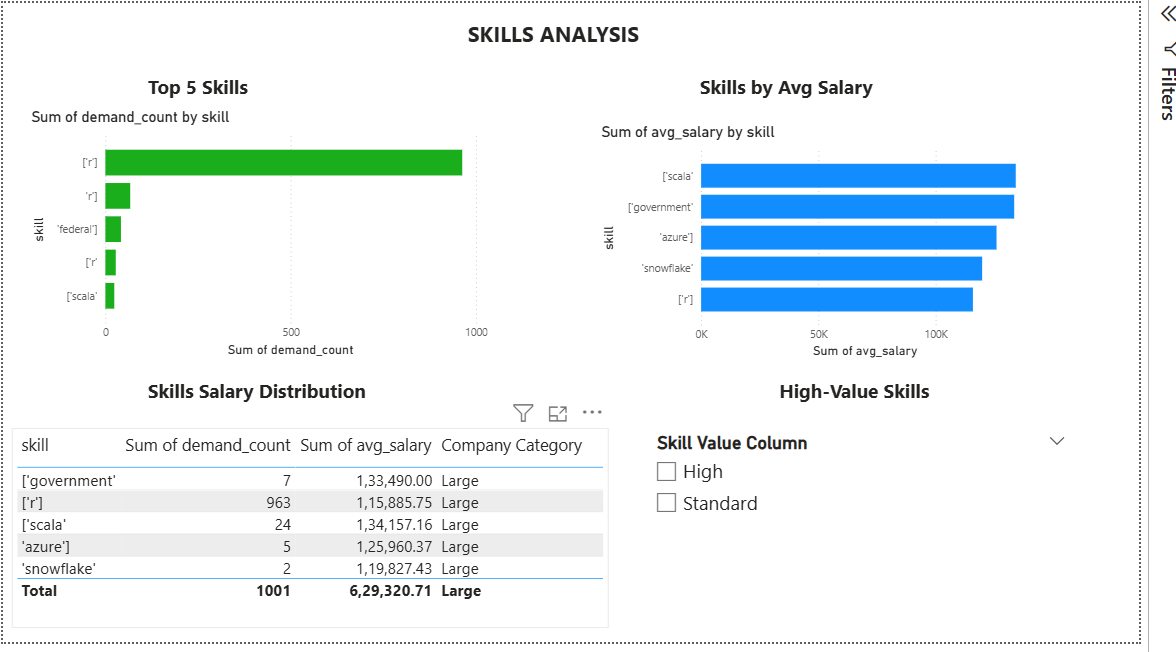

The page's visual inventory and layout, read from the dashboard file:
{"tool":"powerbi","page":{"name":"Page 3","canvas":[1280,720],"ordinal":2},"visuals":[{"type":"clusteredBarChart","title":"Sum of demand_count","fields":{"Category":["job_analysis_db view_skills_analysis.skill"],"Y":["Sum(job_analysis_db view_skills_analysis.demand_count)"]},"box":[27,118.9,524.3,285.1],"z":0},{"type":"textbox","box":[417.6,13.5,406.8,60.8],"z":1000},{"type":"textbox","box":[51.4,74.3,337.8,60.8],"z":2000},{"type":"barChart","title":"Average Salary Skill","fields":{"Y":["Sum(job_analysis_db view_skills_analysis.avg_salary)"],"Category":["job_analysis_db view_skills_analysis.skill"]},"box":[668.9,135.1,506.8,270.3],"z":3000},{"type":"textbox","box":[668.9,74.3,427,60.8],"z":4000},{"type":"textbox","box":[27,416.2,524.3,62.2],"z":5000},{"type":"tableEx","fields":{"Values":["job_analysis_db view_skills_analysis.skill","job_analysis_db view_skills_analysis.demand_count","job_analysis_db view_skills_analysis.avg_salary","job_analysis_db view_company_analysis.Company Category"]},"box":[9.5,478.4,671.6,225.7],"z":6000},{"type":"slicer","fields":{"Values":["job_analysis_db view_skills_analysis.Skill Value Column"]},"box":[724.3,478.4,485.1,139.2],"z":7000},{"type":"textbox","box":[741.9,416.2,433.8,87.8],"z":8000}]}

Visuals, with their boxes in screenshot pixels (x1, y1, x2, y2), scaled from the page's 1280x720 canvas onto the 1176x652 screenshot:
"Sum of demand_count" clusteredBarChart: box=[25, 108, 507, 366]
textbox: box=[384, 12, 757, 67]
textbox: box=[47, 67, 358, 122]
"Average Salary Skill" barChart: box=[615, 122, 1080, 367]
textbox: box=[615, 67, 1007, 122]
textbox: box=[25, 377, 507, 433]
tableEx - job_analysis_db view_skills_analysis.skill x job_analysis_db view_skills_analysis.demand_count: box=[9, 433, 626, 638]
slicer - job_analysis_db view_skills_analysis.Skill Value Column: box=[665, 433, 1111, 559]
textbox: box=[682, 377, 1080, 456]
